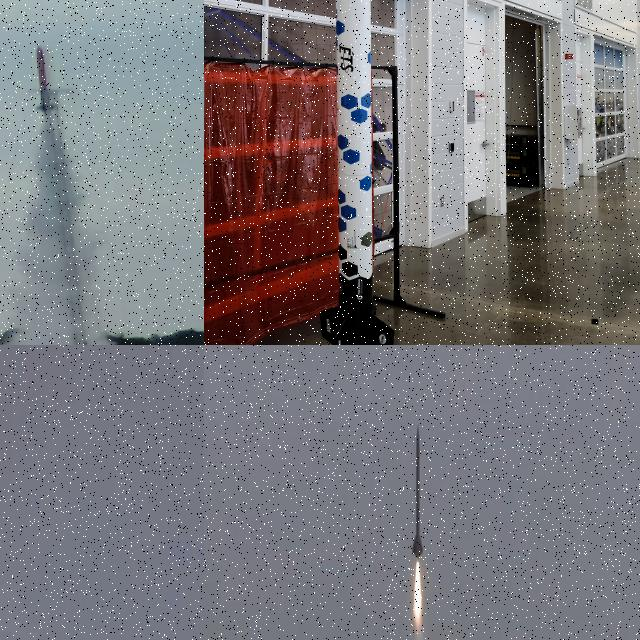Rocket: (319, 0, 395, 345), (412, 424, 423, 564), (35, 46, 54, 115)
